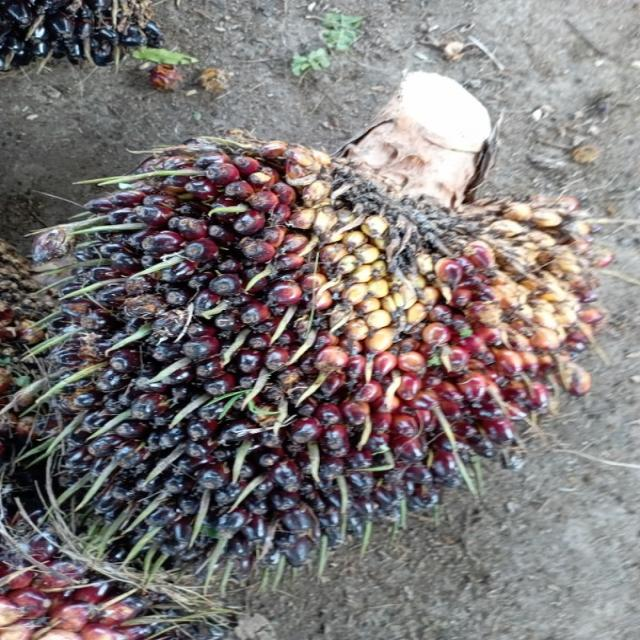fraksi 00: (0, 72, 629, 590)
